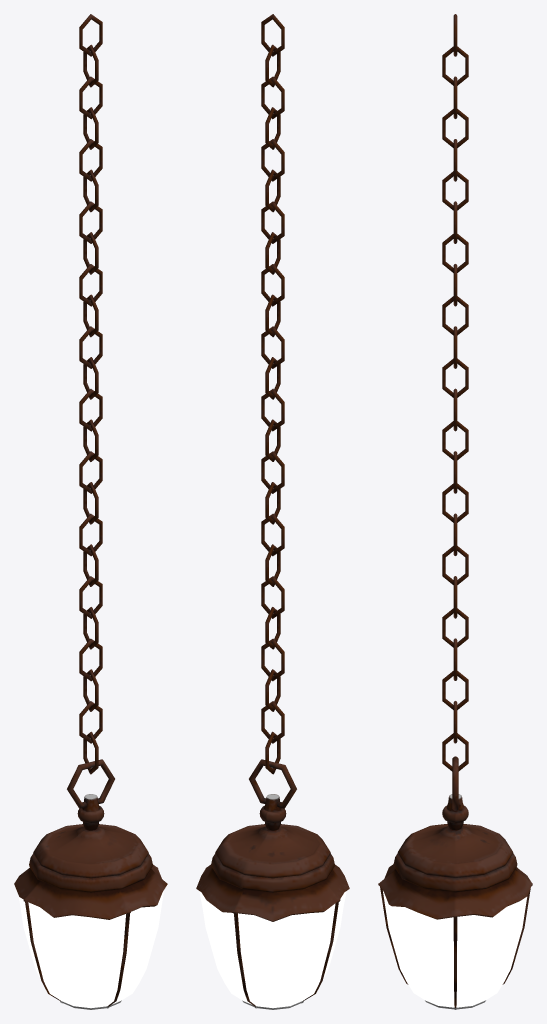
Rendered from light_exterior_light.fbx.
The picture shows the model from 3 angles, left to right: view 1: azimuth 30°, elevation 25°; view 2: azimuth 150°, elevation 25°; view 3: azimuth 270°, elevation 25°; orthographic projection.
Parts seen in each view (by area): view 1: Cylinder.032; view 2: Cylinder.032; view 3: Cylinder.032.
Part boxes in pixels (bbox=[...]): Cylinder.032: bbox=[14, 14, 167, 1009]; Cylinder.032: bbox=[196, 14, 349, 1009]; Cylinder.032: bbox=[378, 14, 532, 1009].
Size of the model in its own units: 33.47 by 235 by 33.47.
